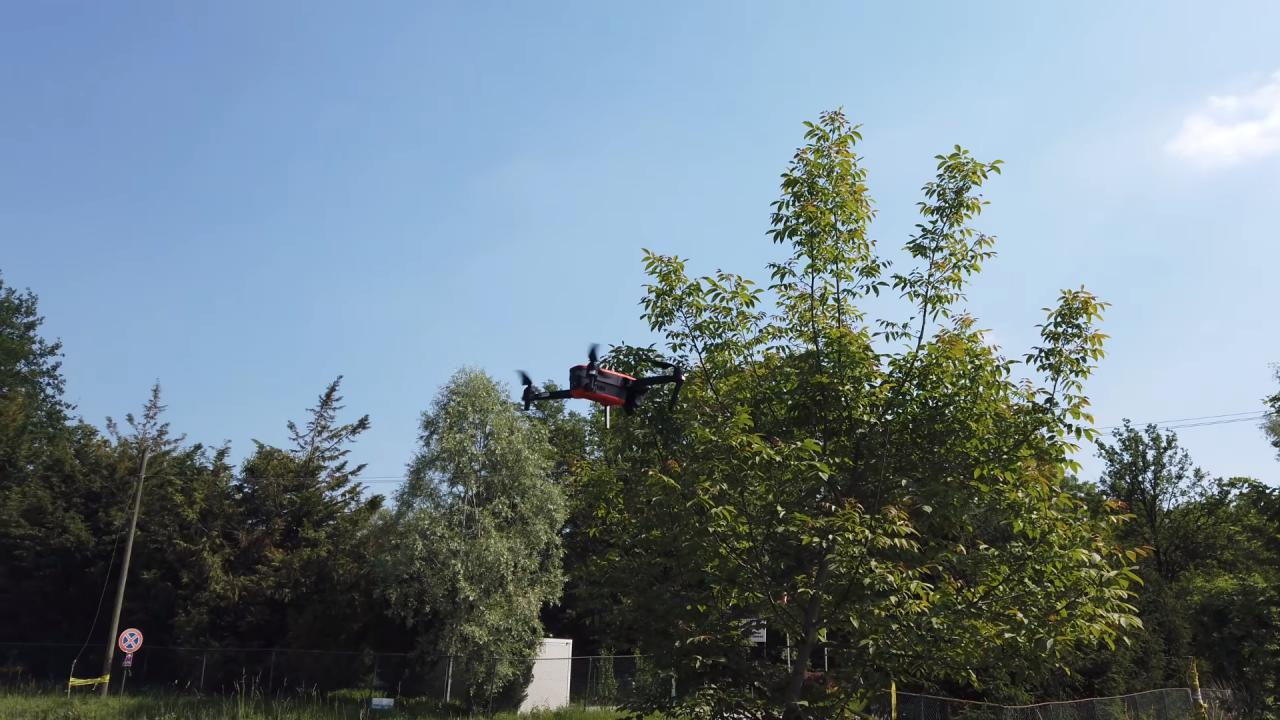Drone: (506, 331, 704, 441)
